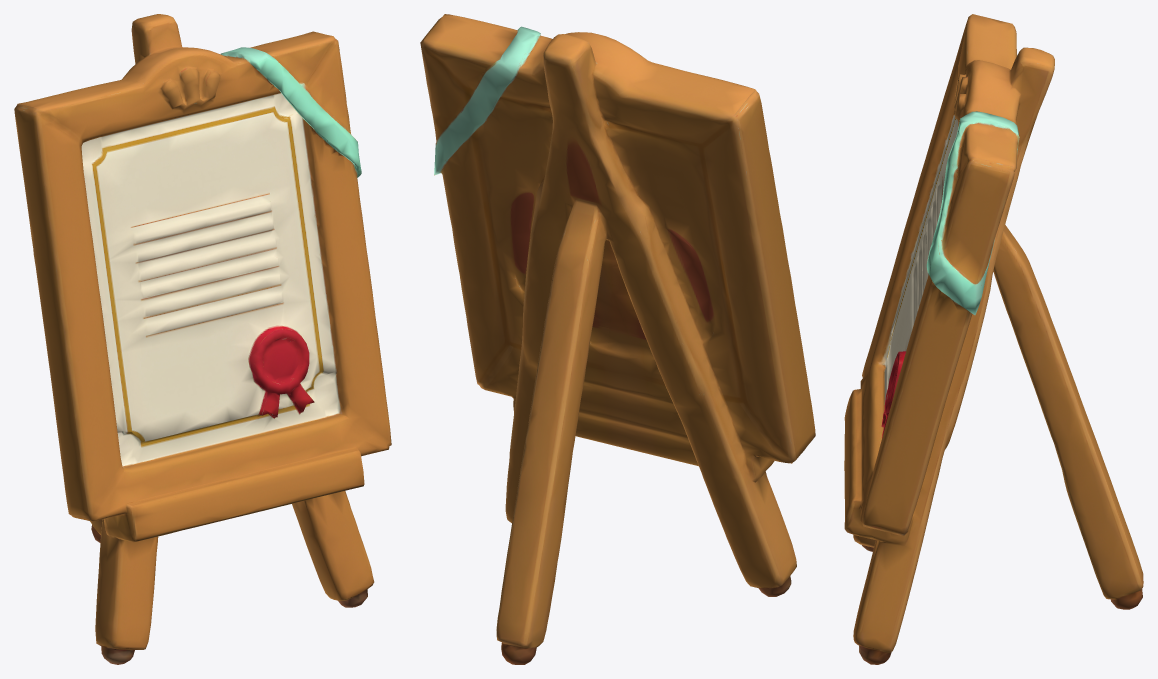
Rendered from certificate_frame.glb.
3 renders of one model, left to right at view 1: azimuth 30°, elevation 25°; view 2: azimuth 150°, elevation 25°; view 3: azimuth 270°, elevation 25°, orthographic. The views are drawn at different scales.
Parts seen in each view (by area): view 1: Mesh_0; view 2: Mesh_0; view 3: Mesh_0.
Part boxes in pixels (bbox=[...]): Mesh_0: bbox=[14, 14, 391, 664]; Mesh_0: bbox=[420, 14, 815, 664]; Mesh_0: bbox=[844, 14, 1143, 664].
Bounding box in the file's own units: 1.11 × 1.91 × 0.9328.
Materials: 1 (1 with a texture image).
